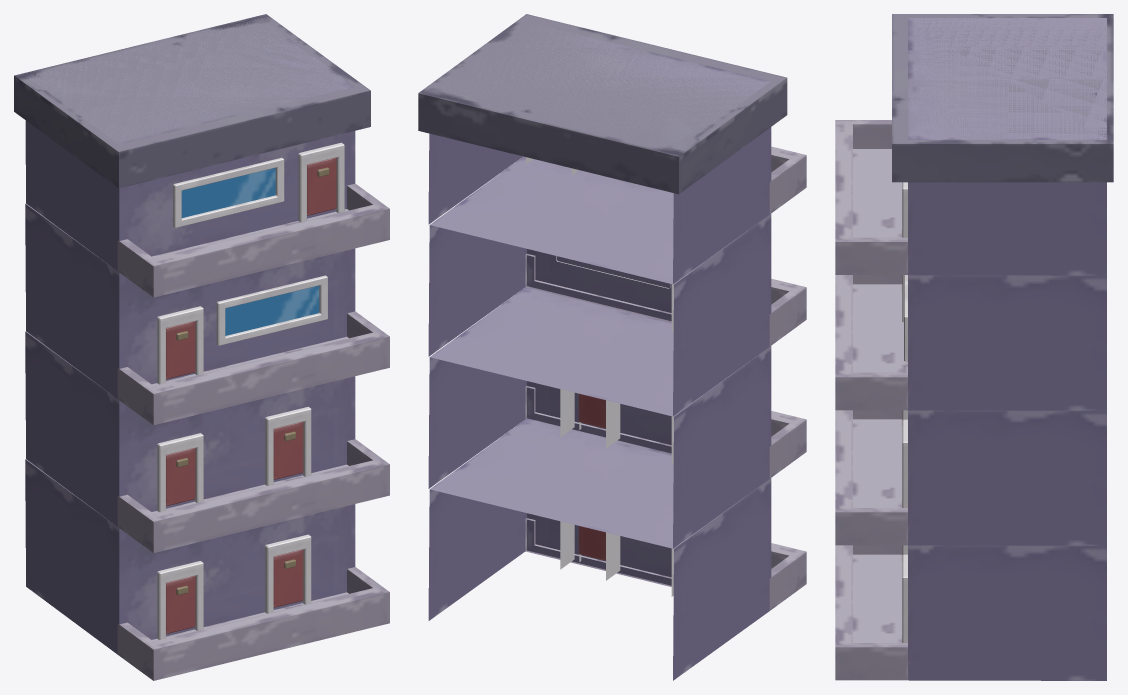
Rendered from bld-4.fbx.
3 renders of one model, left to right at view 1: azimuth 30°, elevation 25°; view 2: azimuth 150°, elevation 25°; view 3: azimuth 270°, elevation 25°, orthographic. The views are drawn at different scales.
Parts seen in each view (by area): view 1: bld4-wall, bld4-top, Cube.057, Cube.050, Cube.045, bld4-window, Cube.049, bld4-wall.001, Cube.059, Cube.052, Cube.051, Cube.058 (+1 smaller); view 2: Cube.045, Cube.057, Cube.050, bld4-top, bld4-wall, Cube.059, Cube.052; view 3: bld4-wall, Cube.045, Cube.050, Cube.057, bld4-top, Cube.052, Cube.059.
Boxes of the visible parts, box(x1,y1,x2,y2) form: bld4-wall: box(25, 19, 389, 297); bld4-top: box(14, 14, 370, 188); Cube.057: box(25, 459, 389, 680); Cube.050: box(25, 331, 389, 552); Cube.045: box(25, 203, 389, 425); bld4-window: box(173, 157, 284, 227); Cube.049: box(216, 275, 327, 345); bld4-wall.001: box(298, 142, 344, 222); Cube.059: box(265, 534, 311, 613); Cube.052: box(265, 406, 311, 485); Cube.051: box(157, 433, 203, 512); Cube.058: box(157, 561, 203, 639); Cube.045: box(428, 156, 806, 416); Cube.057: box(428, 418, 806, 680); Cube.050: box(428, 287, 806, 548); bld4-top: box(418, 14, 787, 194); bld4-wall: box(428, 25, 806, 283); Cube.059: box(560, 521, 620, 580); Cube.052: box(560, 389, 620, 448); bld4-wall: box(835, 18, 1106, 275); Cube.045: box(835, 275, 1106, 410); Cube.050: box(835, 410, 1106, 545); Cube.057: box(835, 545, 1106, 680); bld4-top: box(892, 14, 1113, 182); Cube.052: box(902, 419, 907, 507); Cube.059: box(902, 554, 907, 642).
Bounding box in the file's own units: 3.1 × 6 × 2.8.
